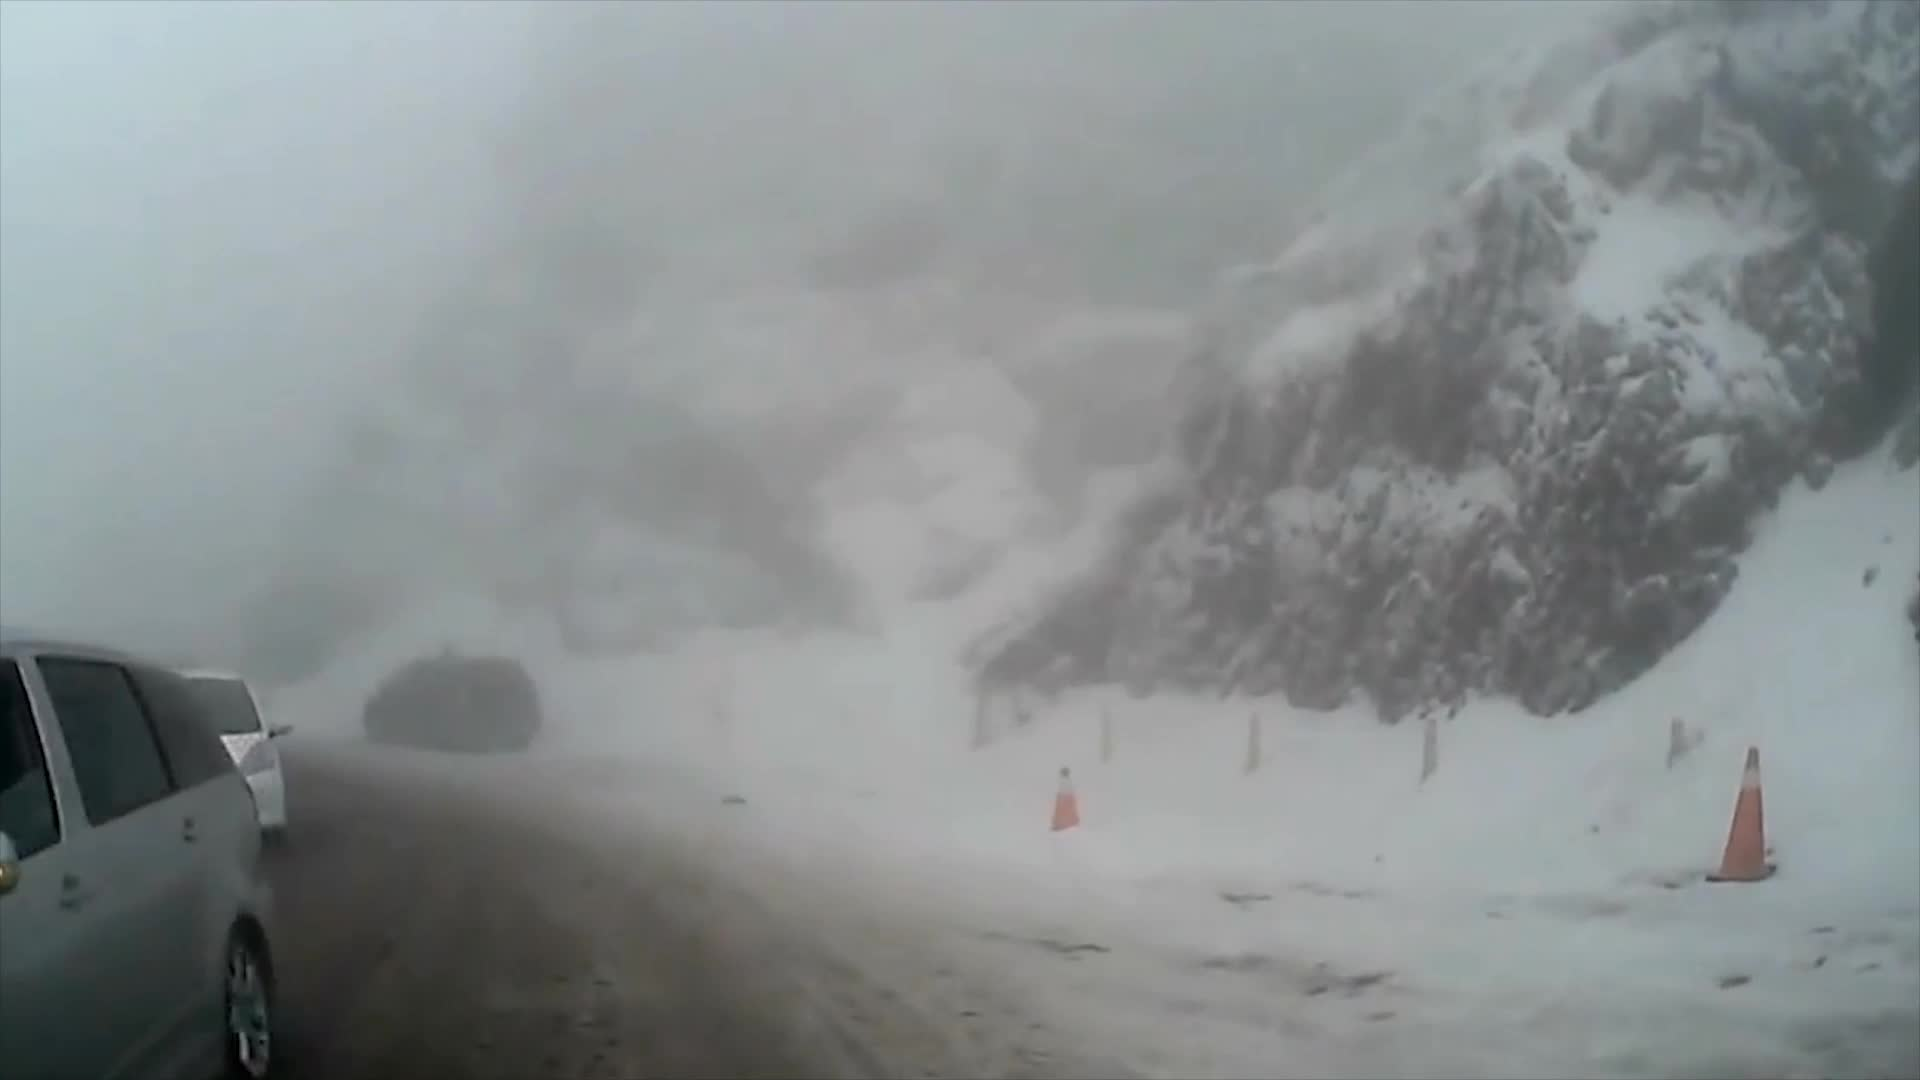vehicle: (0, 636, 281, 1080), (107, 671, 294, 862), (360, 651, 541, 752)
